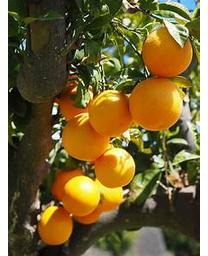lemon: (129, 78, 183, 130), (142, 27, 192, 77), (63, 113, 111, 161), (88, 91, 135, 136), (95, 148, 135, 187), (63, 176, 100, 216), (39, 207, 73, 244)
